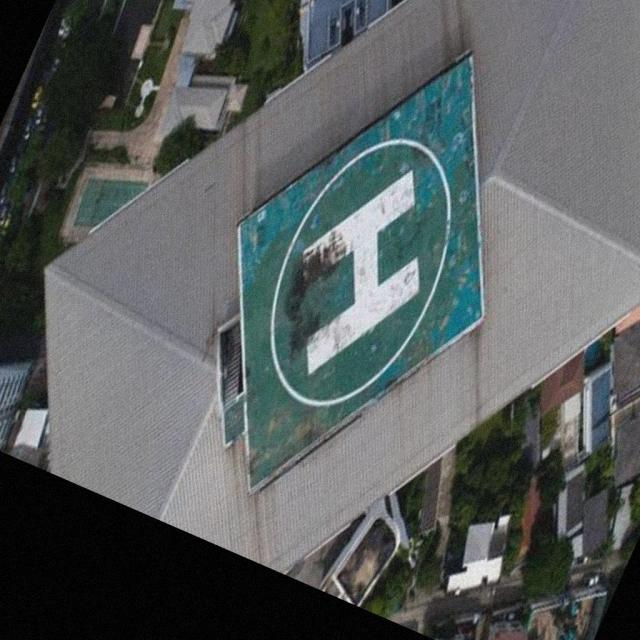helipad: (260, 136, 456, 408)
